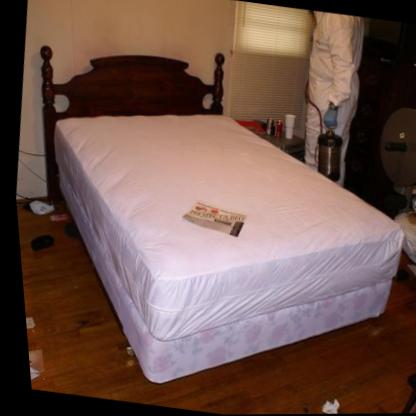Bed: (2, 29, 416, 416)
